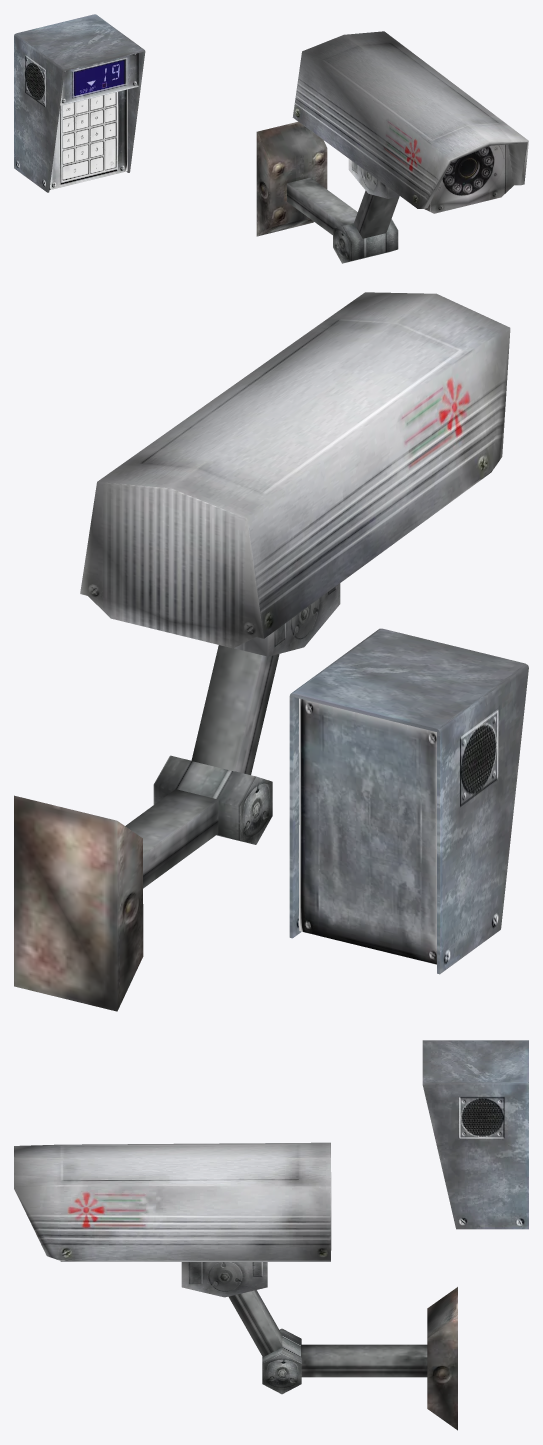
File: cctv_and_keypad_access_panel.glb
3 views of the same model, one above another, from view 1: azimuth 30°, elevation 25°; view 2: azimuth 150°, elevation 25°; view 3: azimuth 270°, elevation 25° (orthographic). The views are drawn at different scales.
Parts seen in each view (by area): view 1: CCTV1:Hinge, Access_Panel:Access_Panel_Access_Panel:Access_Panel_material, CCTV1:CCTV_Camera; view 2: CCTV1:Hinge, Access_Panel:Access_Panel_Access_Panel:Access_Panel_material, CCTV1:CCTV_Camera; view 3: CCTV1:Hinge, Access_Panel:Access_Panel_Access_Panel:Access_Panel_material, CCTV1:CCTV_Camera.
Boxes of the visible parts, <box> form: CCTV1:Hinge: <box>292,31,528,263</box>; Access_Panel:Access_Panel_Access_Panel:Access_Panel_material: <box>14,14,145,192</box>; CCTV1:CCTV_Camera: <box>256,121,357,236</box>; CCTV1:Hinge: <box>80,292,510,844</box>; Access_Panel:Access_Panel_Access_Panel:Access_Panel_material: <box>289,628,528,974</box>; CCTV1:CCTV_Camera: <box>14,789,218,1011</box>; CCTV1:Hinge: <box>14,1142,331,1394</box>; Access_Panel:Access_Panel_Access_Panel:Access_Panel_material: <box>422,1040,528,1229</box>; CCTV1:CCTV_Camera: <box>301,1287,457,1430</box>.
Bounding box in the file's own units: 0.5488 × 0.4316 × 0.7806.
2 materials, 2 textured.
